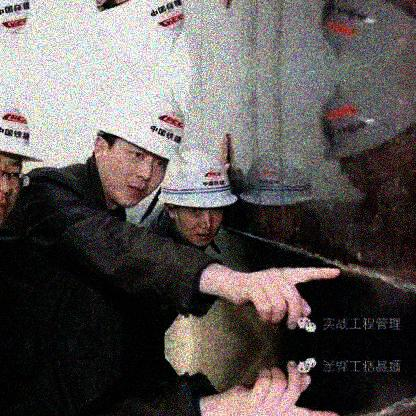helmet: (91, 82, 191, 206), (158, 149, 239, 247)
